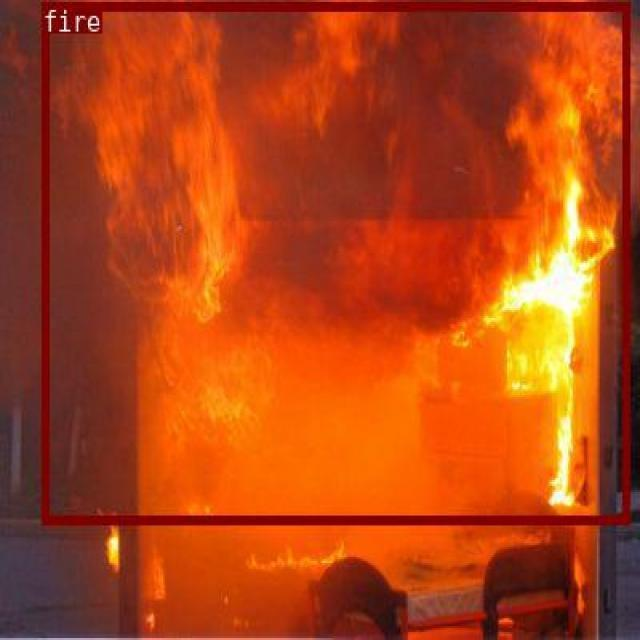fire: (41, 0, 628, 522)
